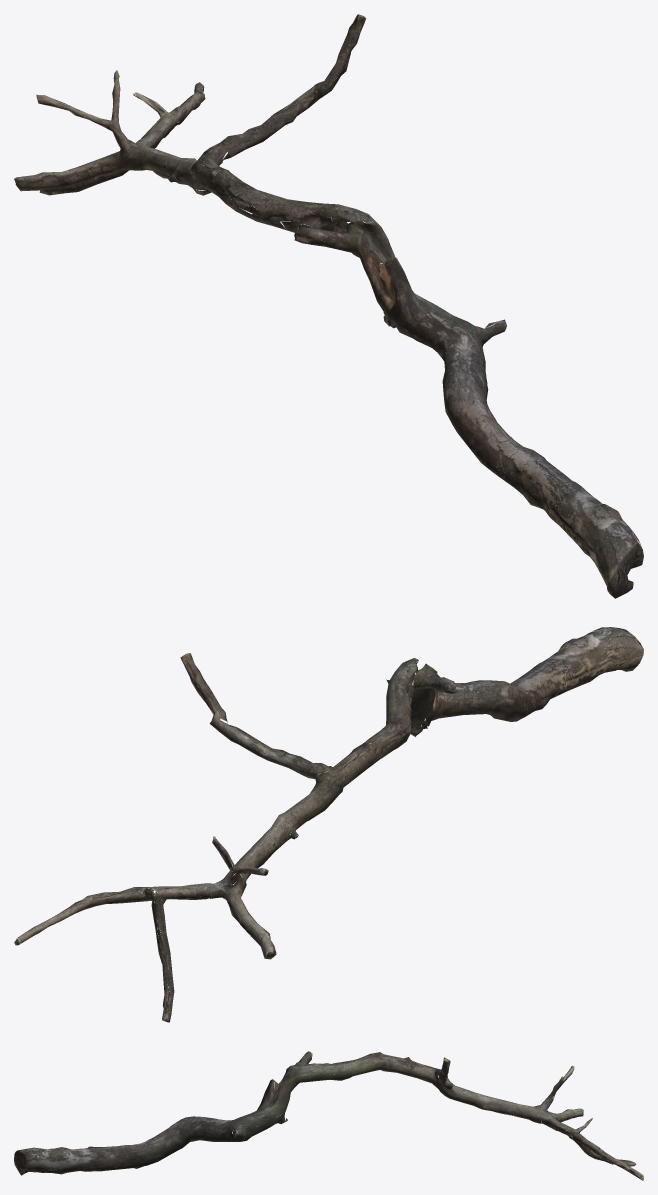
The model's file is dry-branches-medium-01-a.glb.
3 renders of one model, top to bottom at view 1: azimuth 30°, elevation 25°; view 2: azimuth 150°, elevation 25°; view 3: azimuth 270°, elevation 25°, orthographic. The views are drawn at different scales.
Parts seen in each view (by area): view 1: dry_branches_medium_01_a; view 2: dry_branches_medium_01_a; view 3: dry_branches_medium_01_a.
Boxes of the visible parts, bbox=[...] form: dry_branches_medium_01_a: bbox=[14, 14, 643, 598]; dry_branches_medium_01_a: bbox=[14, 627, 643, 1022]; dry_branches_medium_01_a: bbox=[14, 1051, 643, 1180].
Bounding box in the file's own units: 0.323 × 0.3403 × 1.3.
1 material, 1 textured.
